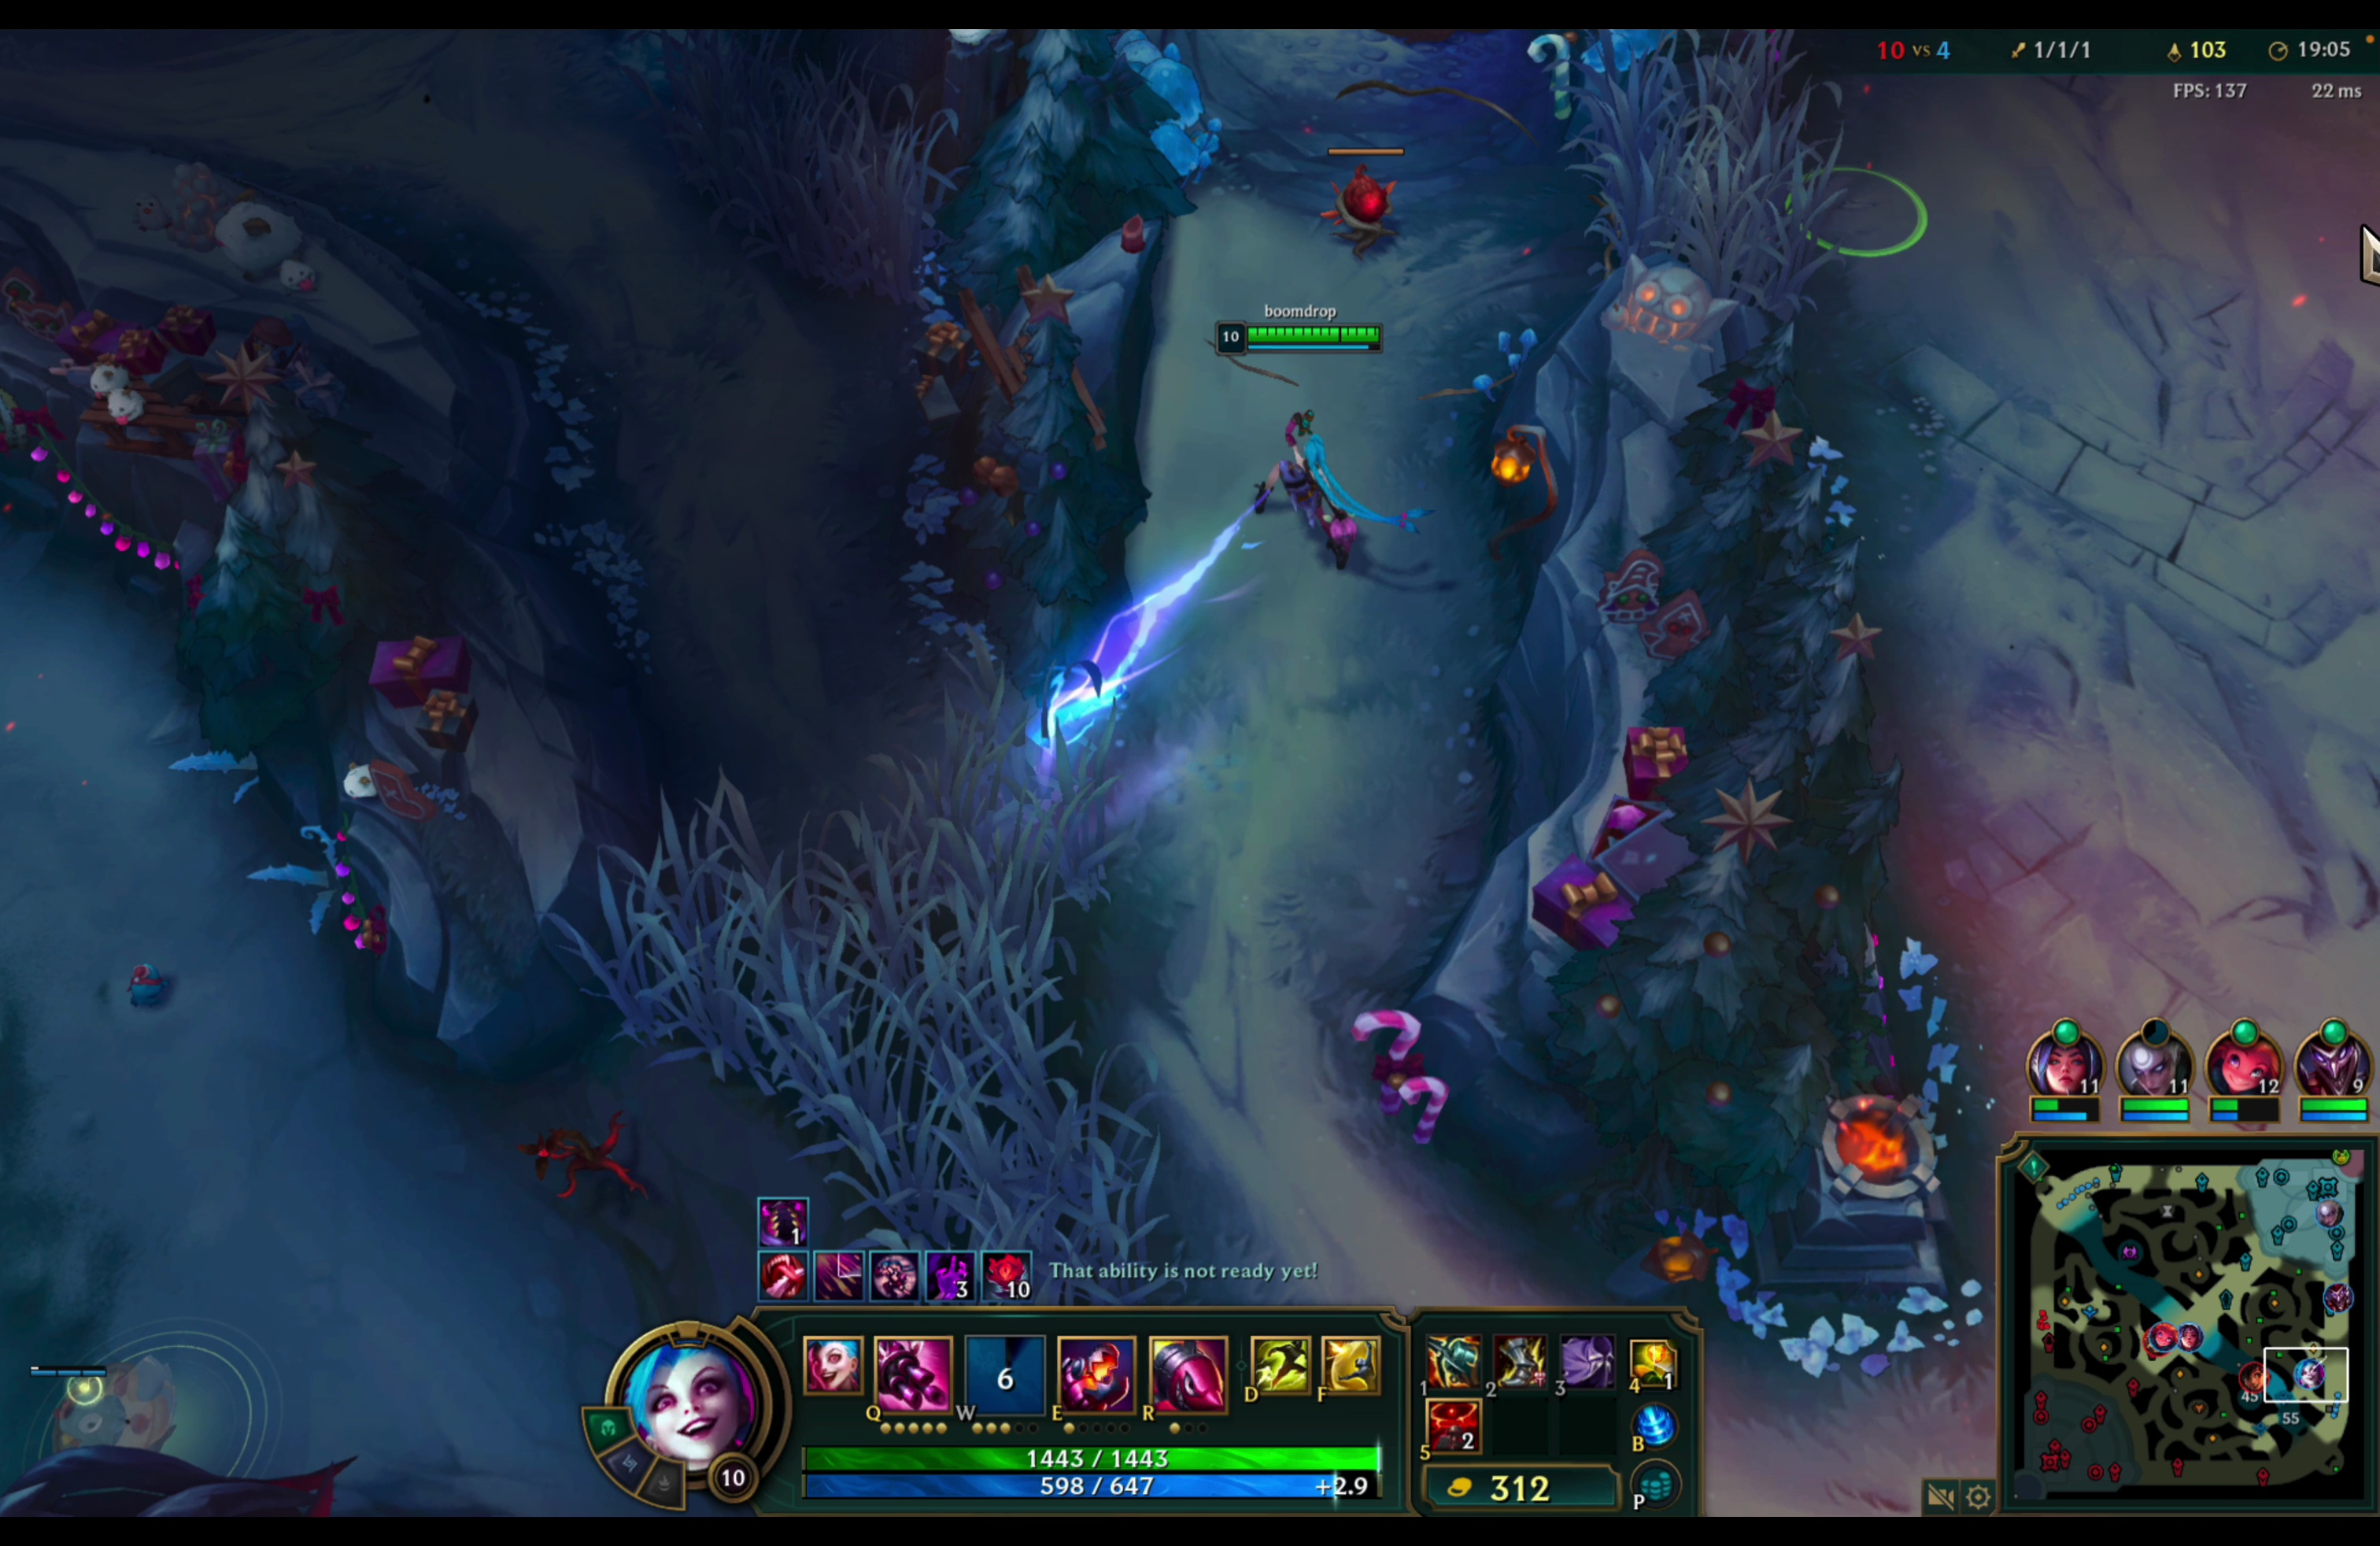JINX_W_PROJECTILE: (1010, 292, 1396, 783)
